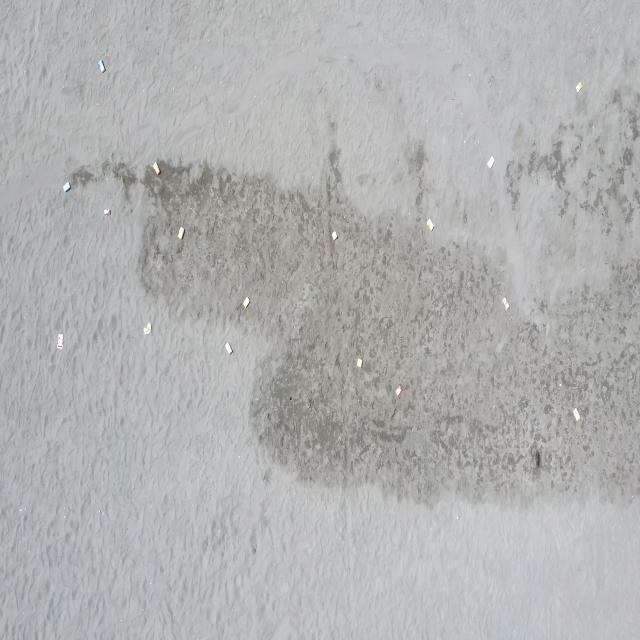Garbage: (55, 335, 63, 348), (572, 407, 580, 420), (151, 161, 159, 173), (224, 342, 232, 353), (575, 80, 583, 91), (241, 296, 248, 307), (395, 384, 402, 395), (63, 181, 70, 191), (355, 357, 362, 367), (143, 323, 150, 333), (178, 227, 183, 239), (98, 59, 103, 71), (502, 296, 507, 308), (427, 219, 432, 230), (487, 158, 493, 167), (331, 231, 336, 240), (103, 207, 110, 213)
